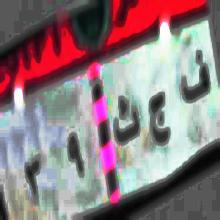3: (23, 145, 47, 209)
9: (65, 127, 89, 188)
faa: (180, 42, 214, 110)
jeem: (146, 82, 170, 144)
thaa: (113, 87, 143, 149)
